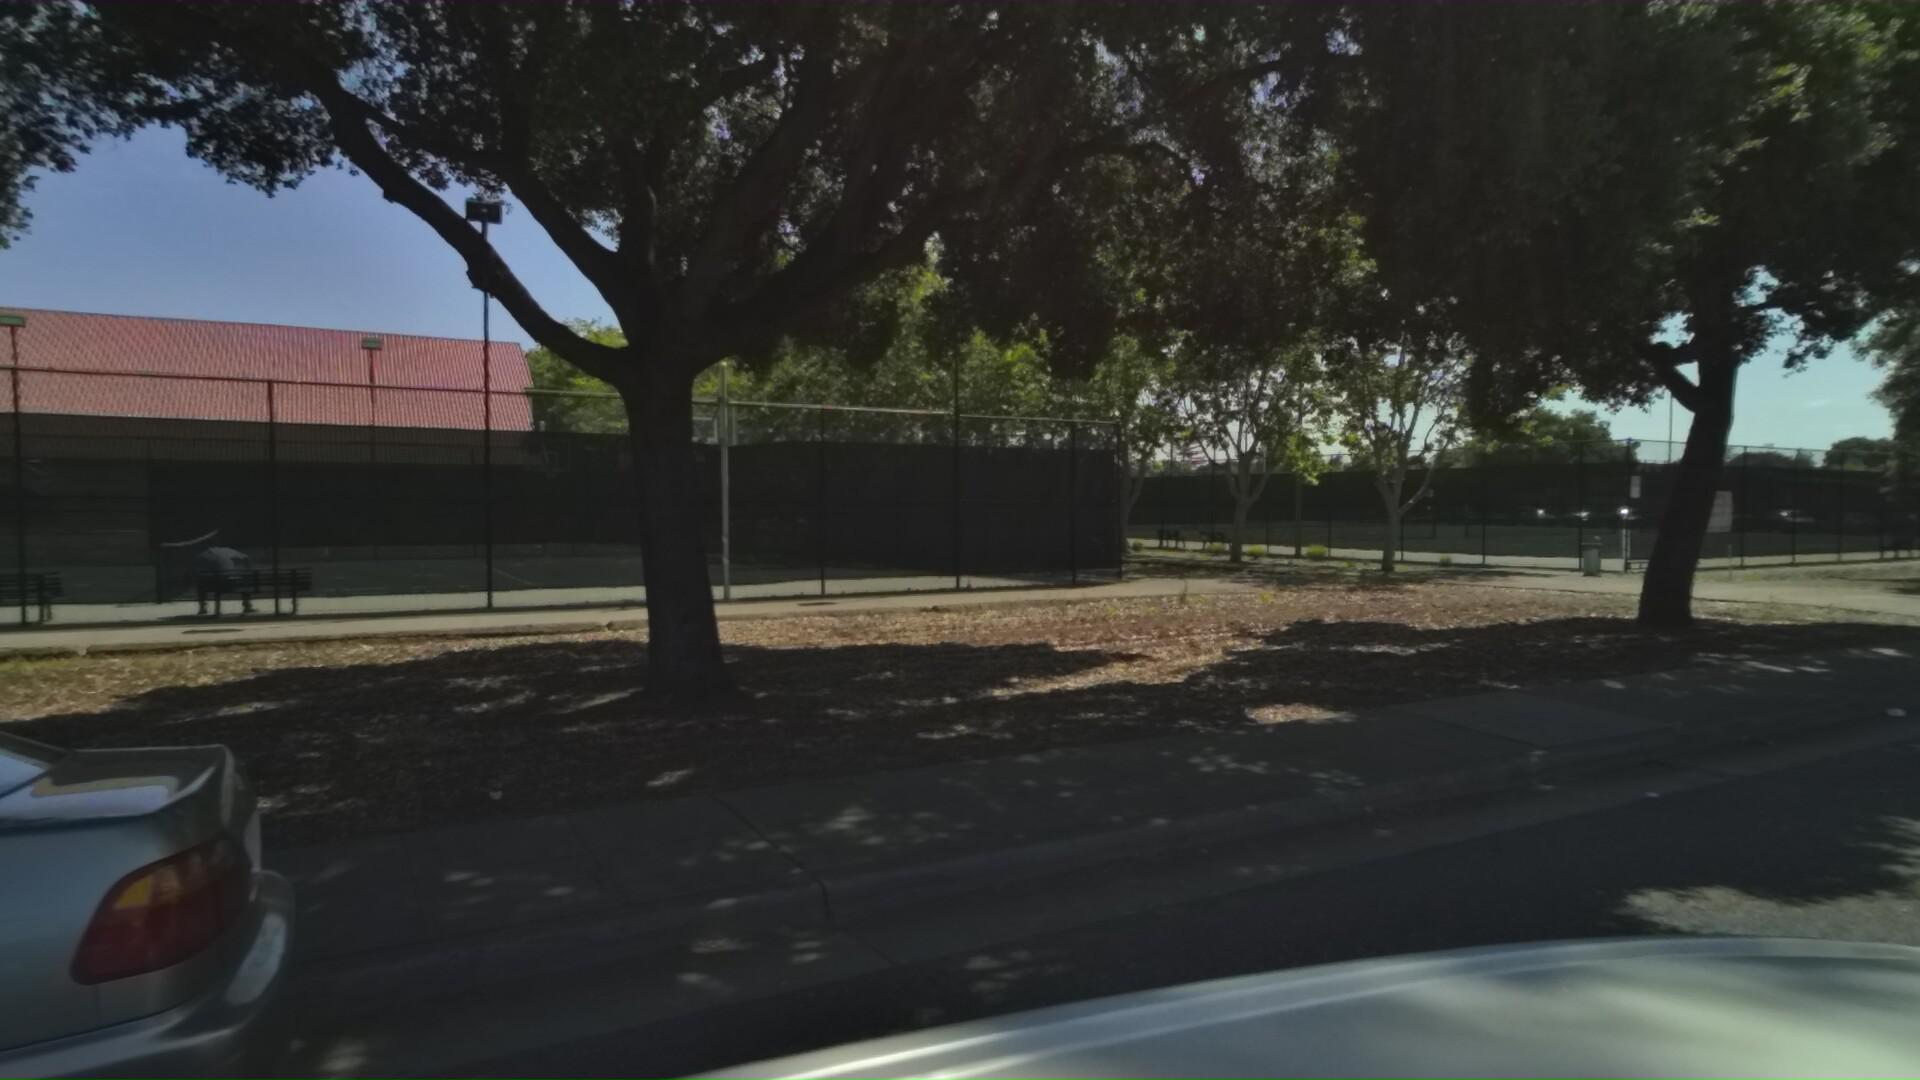car: (0, 560, 563, 1080)
